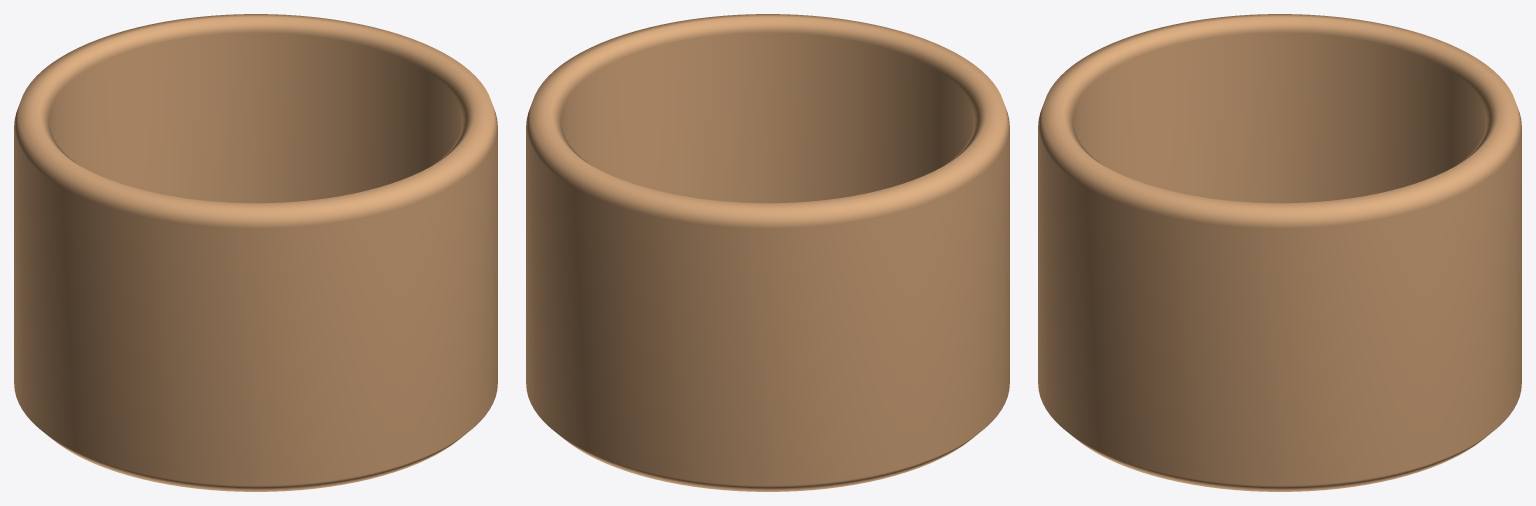
Rendered from vessel.gltf.
The picture shows the model from 3 angles, left to right: view 1: azimuth 30°, elevation 25°; view 2: azimuth 150°, elevation 25°; view 3: azimuth 270°, elevation 25°; orthographic projection.
Size of the model in its own units: 2.2 by 1.43 by 2.2.
